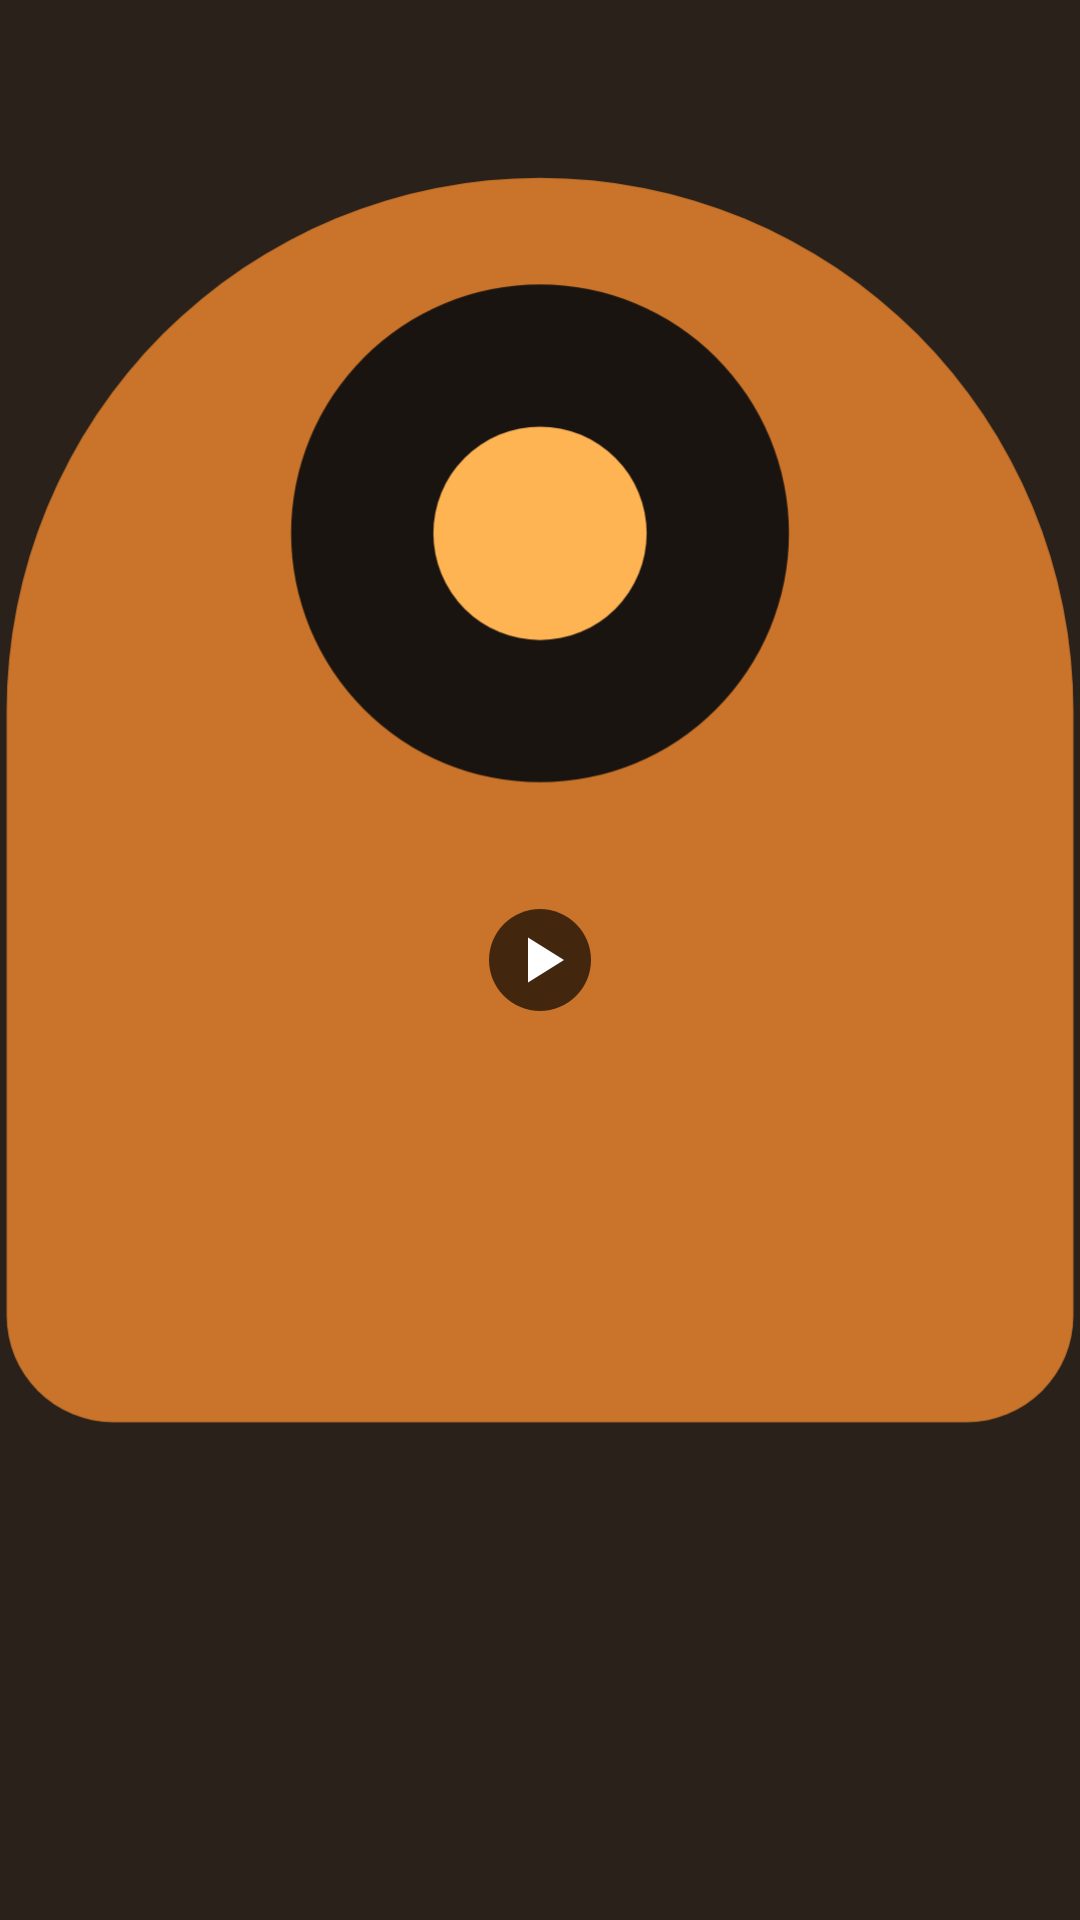

Screen size 1080px x 1920px. Icon name, then its center in pixels as (x,y):
Play or pause: (540,960)
